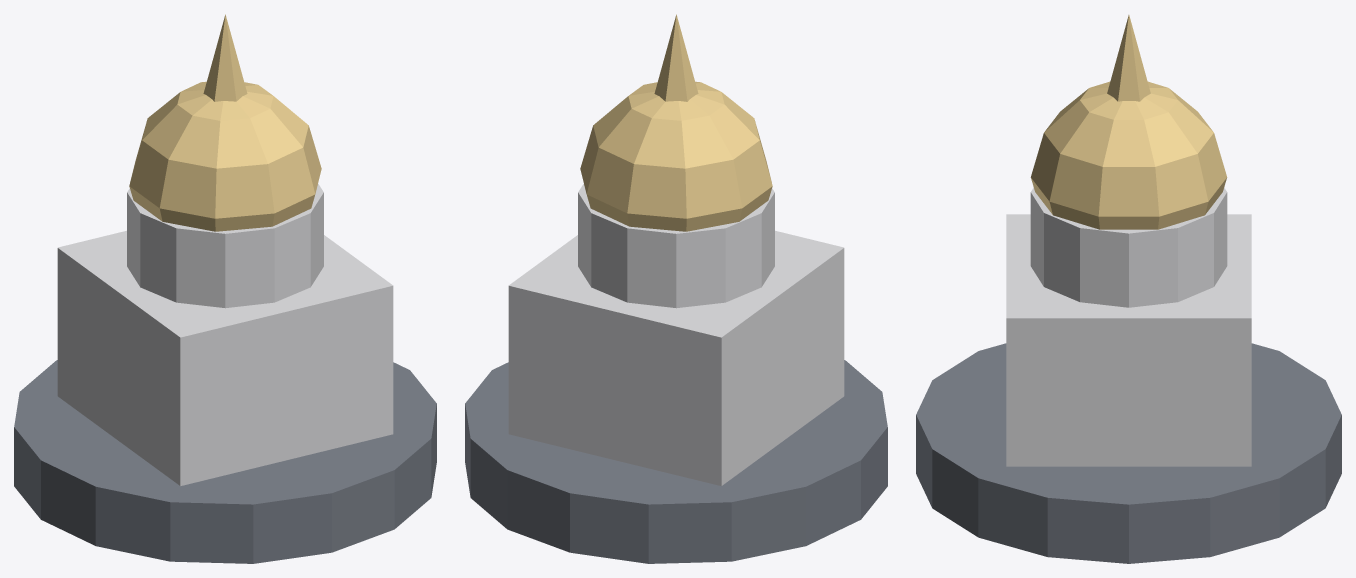
The model's file is capital.glb.
The picture shows the model from 3 angles, left to right: view 1: azimuth 30°, elevation 25°; view 2: azimuth 150°, elevation 25°; view 3: azimuth 270°, elevation 25°; orthographic projection.
Parts seen in each view (by area): view 1: capital; view 2: capital; view 3: capital.
Boxes of the visible parts, left/top/right/bottom form: capital: left=14, top=14, right=436, bottom=563; capital: left=465, top=14, right=887, bottom=563; capital: left=916, top=15, right=1341, bottom=563.
Size of the model in its own units: 0.52 by 0.62 by 0.52.
